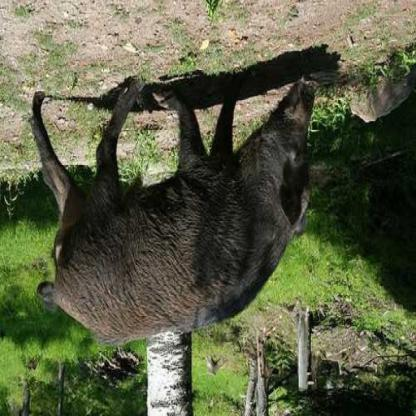boar: (11, 53, 315, 361)
